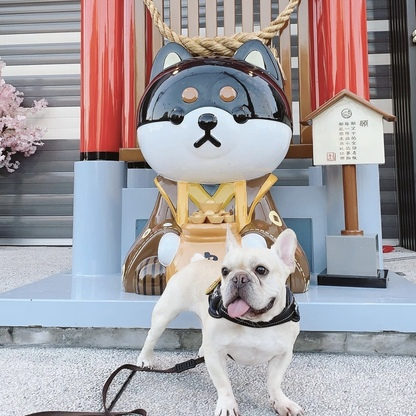bulldog: (134, 221, 310, 416)
